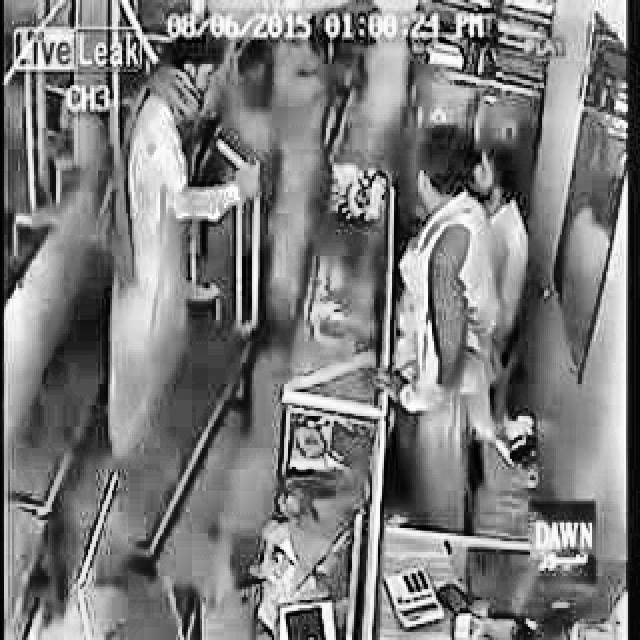robbery: (106, 35, 284, 462)
